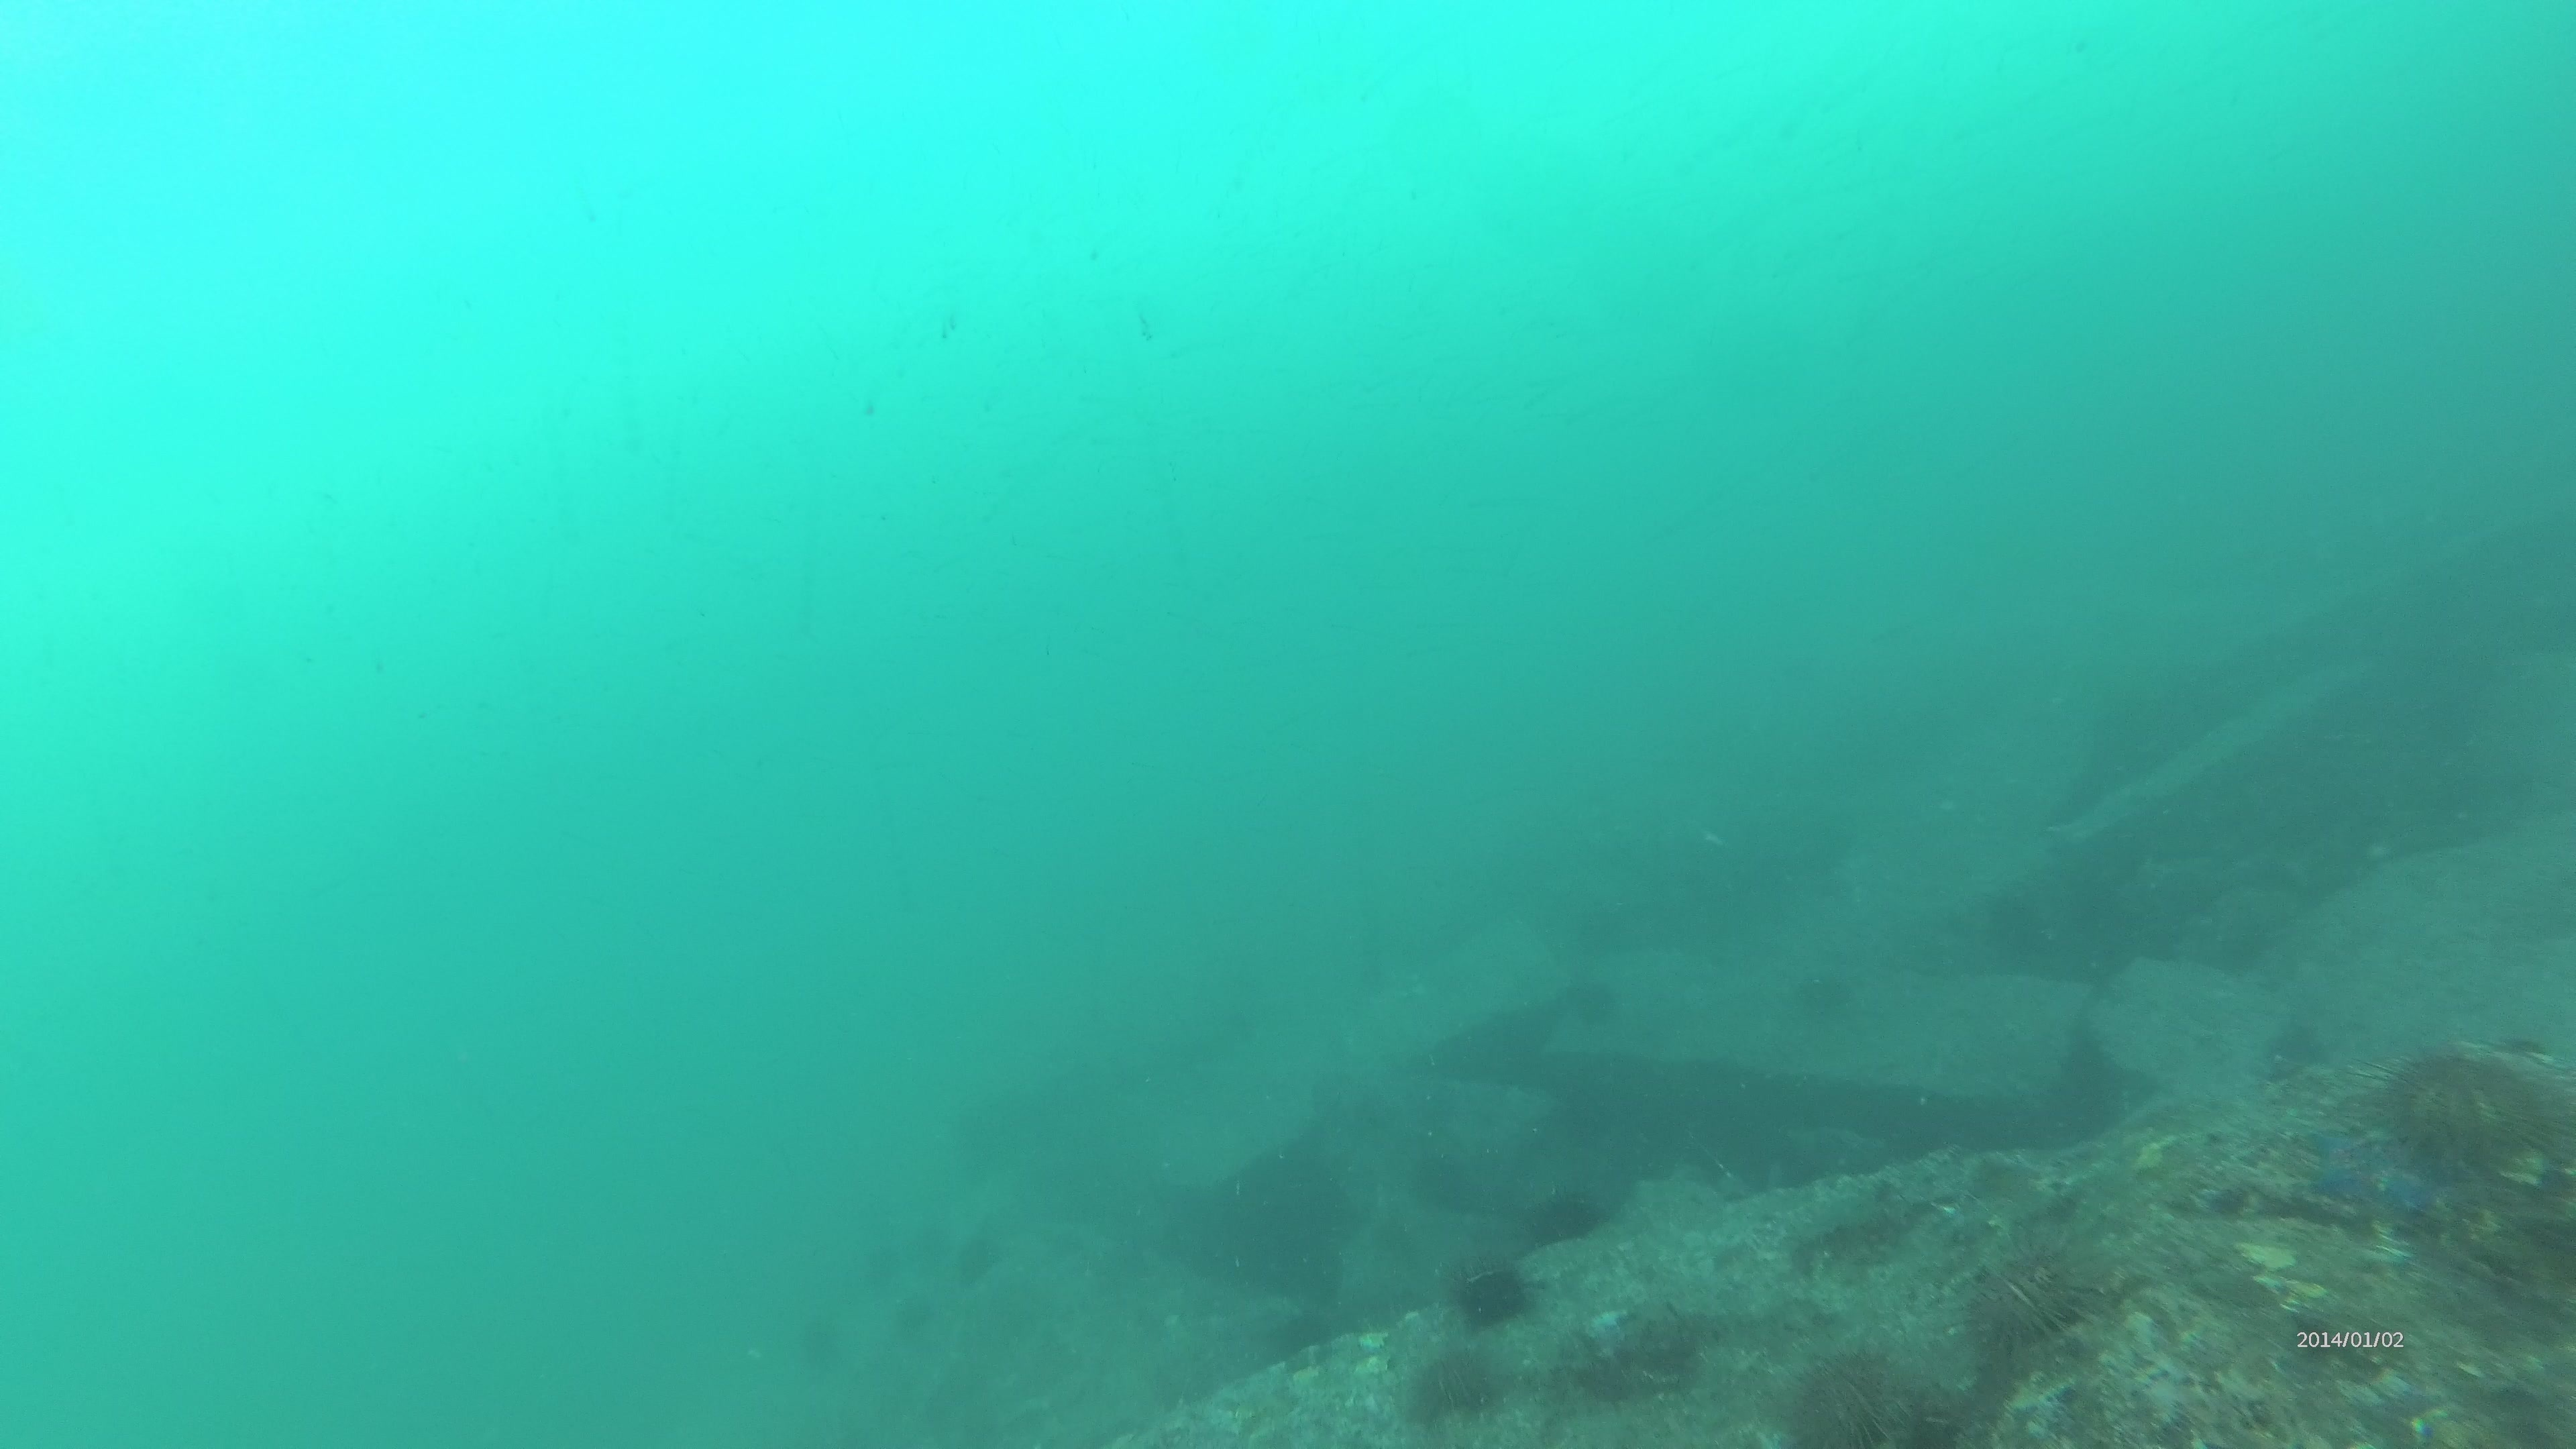echinus: (2369, 1035, 2551, 1180), (1955, 1228, 2105, 1361), (1776, 1341, 1928, 1445), (1401, 1341, 1507, 1428), (1445, 1253, 1541, 1334), (1522, 1177, 1612, 1251), (947, 1231, 1010, 1286), (1566, 985, 1624, 1039), (892, 1292, 938, 1343), (856, 1244, 908, 1288), (1794, 971, 1847, 1012), (794, 1323, 840, 1361)
starfish: (2296, 1122, 2452, 1230)
